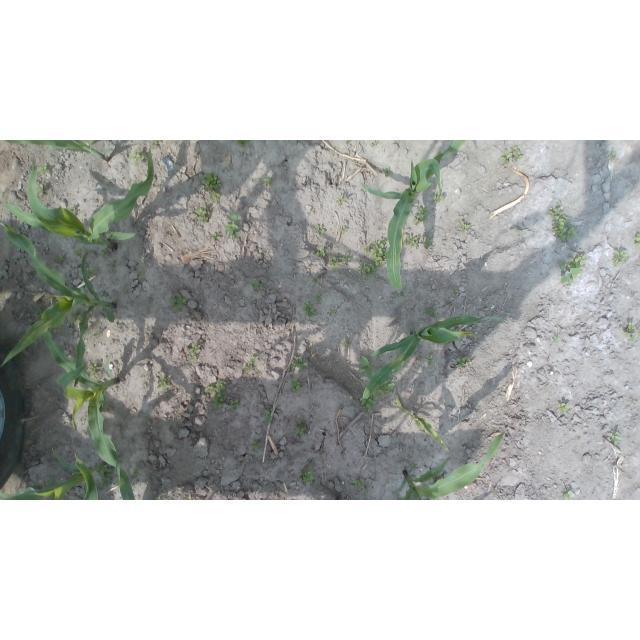Maize: (0, 222, 116, 388), (43, 309, 137, 500), (361, 140, 469, 292), (6, 146, 154, 250), (358, 315, 508, 402), (394, 429, 507, 500), (1, 449, 104, 500), (394, 391, 451, 453), (0, 140, 112, 161), (72, 452, 100, 500)
Weeds: (548, 201, 579, 243), (558, 255, 587, 286), (205, 380, 228, 409), (202, 172, 223, 202), (372, 239, 388, 268), (224, 211, 241, 238), (358, 354, 377, 378), (500, 145, 522, 165), (98, 464, 115, 489), (374, 377, 394, 397), (357, 261, 376, 279), (169, 294, 187, 313), (291, 356, 308, 374), (413, 206, 429, 225), (129, 149, 146, 166), (612, 250, 629, 267), (242, 353, 258, 371), (354, 478, 371, 494), (360, 396, 376, 413), (195, 206, 211, 223), (188, 342, 201, 362), (69, 308, 85, 324), (625, 322, 637, 343), (300, 467, 315, 483), (405, 234, 421, 249), (296, 419, 309, 437), (304, 300, 317, 318), (609, 431, 623, 446), (157, 374, 170, 390), (88, 363, 98, 382), (291, 379, 303, 394), (457, 356, 470, 369), (35, 183, 46, 198), (329, 257, 341, 270), (340, 253, 352, 266), (265, 408, 274, 425), (250, 279, 262, 291), (236, 140, 252, 149), (38, 165, 51, 176), (424, 308, 439, 317), (231, 399, 242, 411), (421, 237, 432, 249), (434, 192, 445, 204), (67, 204, 77, 217), (86, 267, 99, 277), (558, 403, 571, 413), (53, 255, 64, 266), (461, 221, 472, 232), (250, 441, 262, 451), (425, 355, 435, 367), (562, 488, 572, 500), (262, 177, 274, 187), (341, 337, 352, 347), (315, 225, 325, 236), (75, 248, 84, 259), (317, 248, 328, 257), (513, 227, 527, 234), (96, 291, 110, 298), (315, 293, 324, 303), (337, 196, 348, 204), (133, 468, 142, 477), (35, 309, 43, 319), (110, 259, 118, 269), (312, 274, 320, 284), (635, 232, 640, 247), (136, 268, 145, 276), (385, 167, 392, 177), (210, 234, 220, 241), (92, 330, 100, 338), (341, 226, 348, 235), (152, 140, 162, 146), (101, 251, 108, 259), (364, 246, 371, 254), (327, 310, 336, 316), (370, 140, 379, 146), (410, 464, 417, 471), (493, 488, 499, 495), (553, 336, 559, 343), (612, 149, 617, 157), (106, 181, 111, 188), (453, 287, 458, 294), (155, 496, 162, 500), (185, 496, 192, 500), (632, 399, 639, 403), (266, 204, 270, 209), (346, 141, 352, 144), (638, 326, 640, 335)
